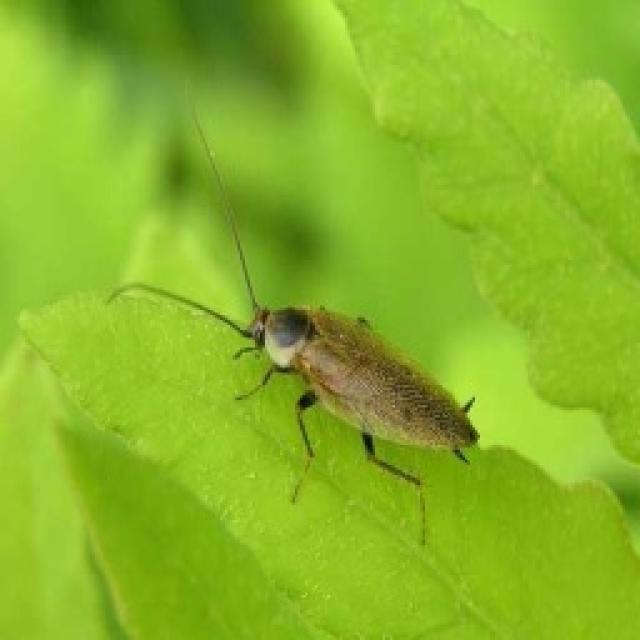cockroach: (152, 275, 504, 541)
